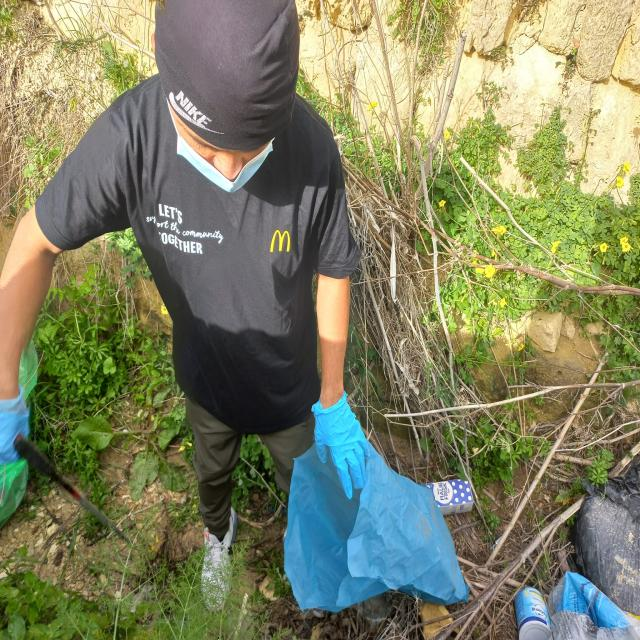Can: (513, 587, 553, 640)
Carton: (419, 479, 474, 513)
Other plastic: (548, 571, 640, 640)
Plastic bag - wrapper: (280, 435, 469, 614), (571, 454, 640, 616), (1, 456, 30, 526), (22, 339, 38, 405)
